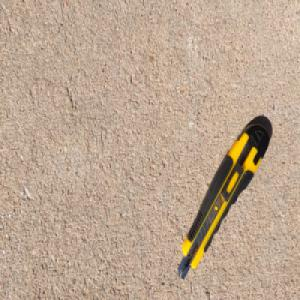Cutter: (176, 121, 270, 280)
